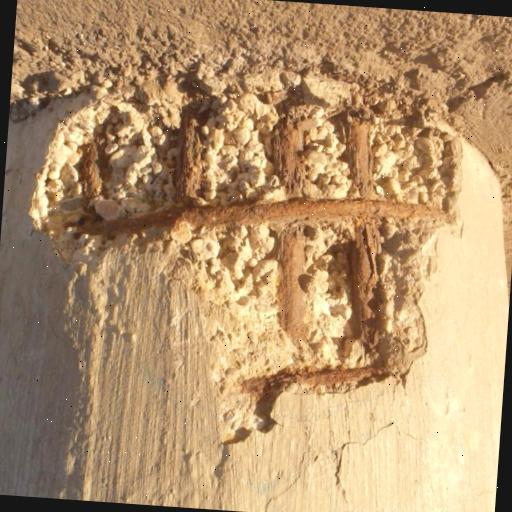spalling: (18, 60, 456, 410)
